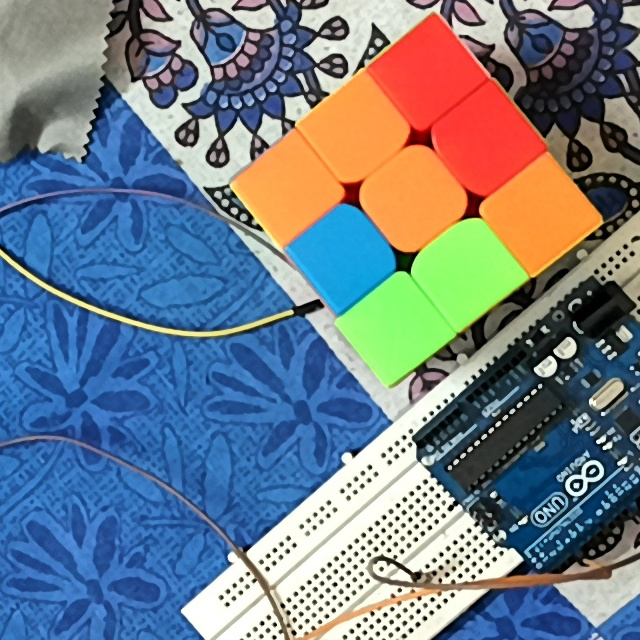tile: (506, 186, 574, 244), (455, 114, 516, 171), (387, 169, 446, 227), (397, 46, 455, 103), (438, 244, 496, 301), (317, 228, 373, 287), (332, 100, 388, 158), (261, 161, 317, 218), (371, 298, 426, 354)
